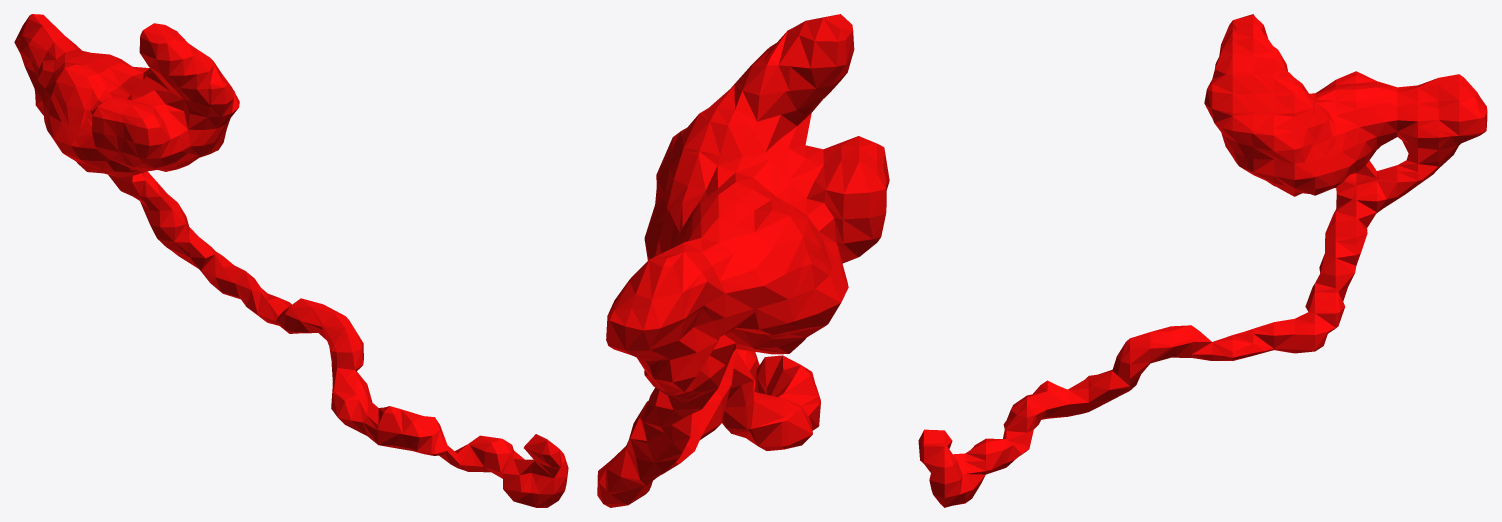
Rendered from mltG_coarse.dae.
The picture shows the model from 3 angles, left to right: view 1: azimuth 30°, elevation 25°; view 2: azimuth 150°, elevation 25°; view 3: azimuth 270°, elevation 25°; orthographic projection. The views are drawn at different scales.
Visible parts, largest first — view 1: mltG; view 2: mltG; view 3: mltG.
Part boxes in pixels (x1,y1,x2,y2): mltG: [14, 14, 568, 507]; mltG: [597, 14, 889, 507]; mltG: [918, 14, 1487, 507].
Bounding box in the file's own units: 99.91 × 132 × 174.
